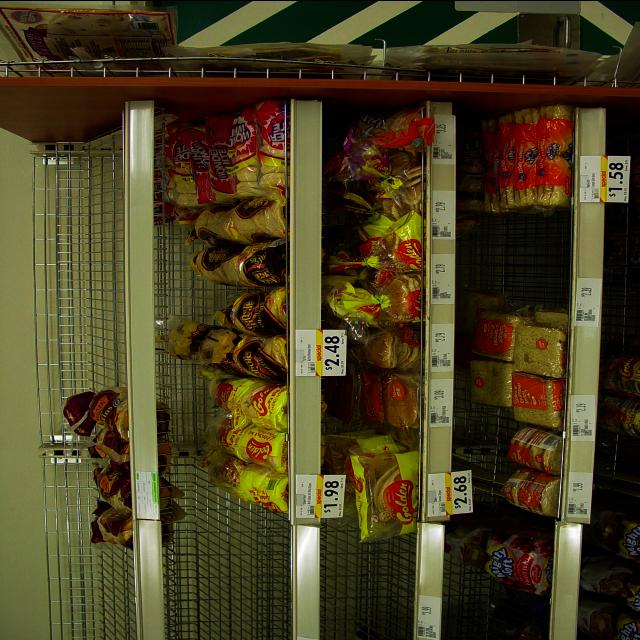empty_space: (23, 127, 115, 385), (179, 514, 278, 634), (324, 538, 401, 631), (45, 553, 122, 639), (474, 219, 558, 287), (449, 595, 543, 633), (611, 222, 640, 338), (476, 409, 502, 487), (599, 442, 637, 482)
